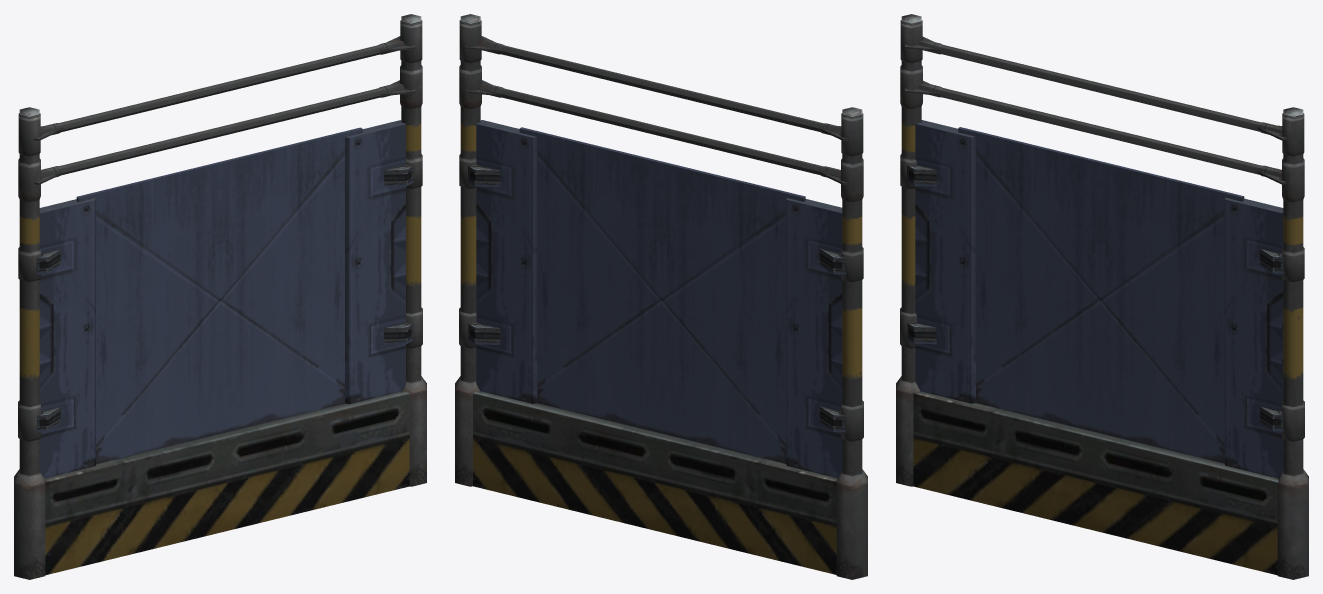
Rendered from 2_ChengZhen_YanTiQiang_01.FBX.
The picture shows the model from 3 angles, left to right: view 1: azimuth 30°, elevation 25°; view 2: azimuth 150°, elevation 25°; view 3: azimuth 330°, elevation 25°; orthographic projection.
Parts seen in each view (by area): view 1: 2_ChengZhen_YanTiQiang_01; view 2: 2_ChengZhen_YanTiQiang_01; view 3: 2_ChengZhen_YanTiQiang_01.
Part boxes in pixels (<box>): 2_ChengZhen_YanTiQiang_01: <box>14,14,426,579</box>; 2_ChengZhen_YanTiQiang_01: <box>455,14,867,579</box>; 2_ChengZhen_YanTiQiang_01: <box>896,14,1308,579</box>.
Bounding box in the file's own units: 2.93 × 3.12 × 0.1997.
